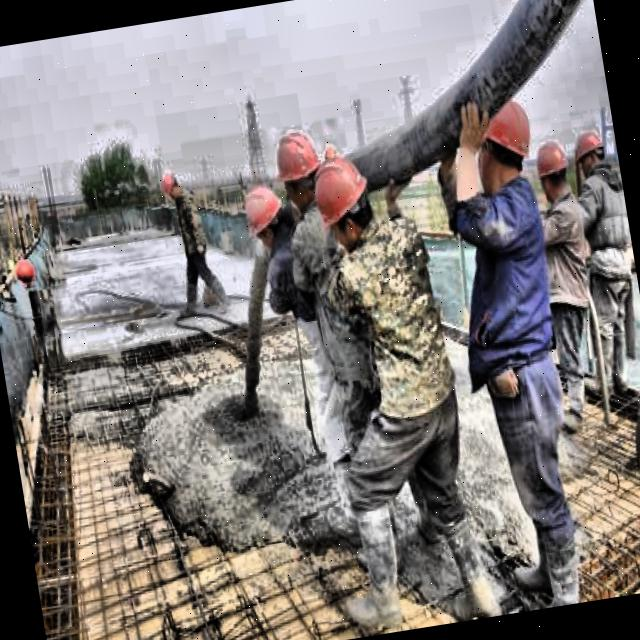helmet: (309, 145, 381, 257), (268, 120, 334, 218), (474, 100, 536, 200), (238, 180, 290, 251), (530, 136, 576, 204), (568, 124, 613, 188), (158, 167, 185, 206)
